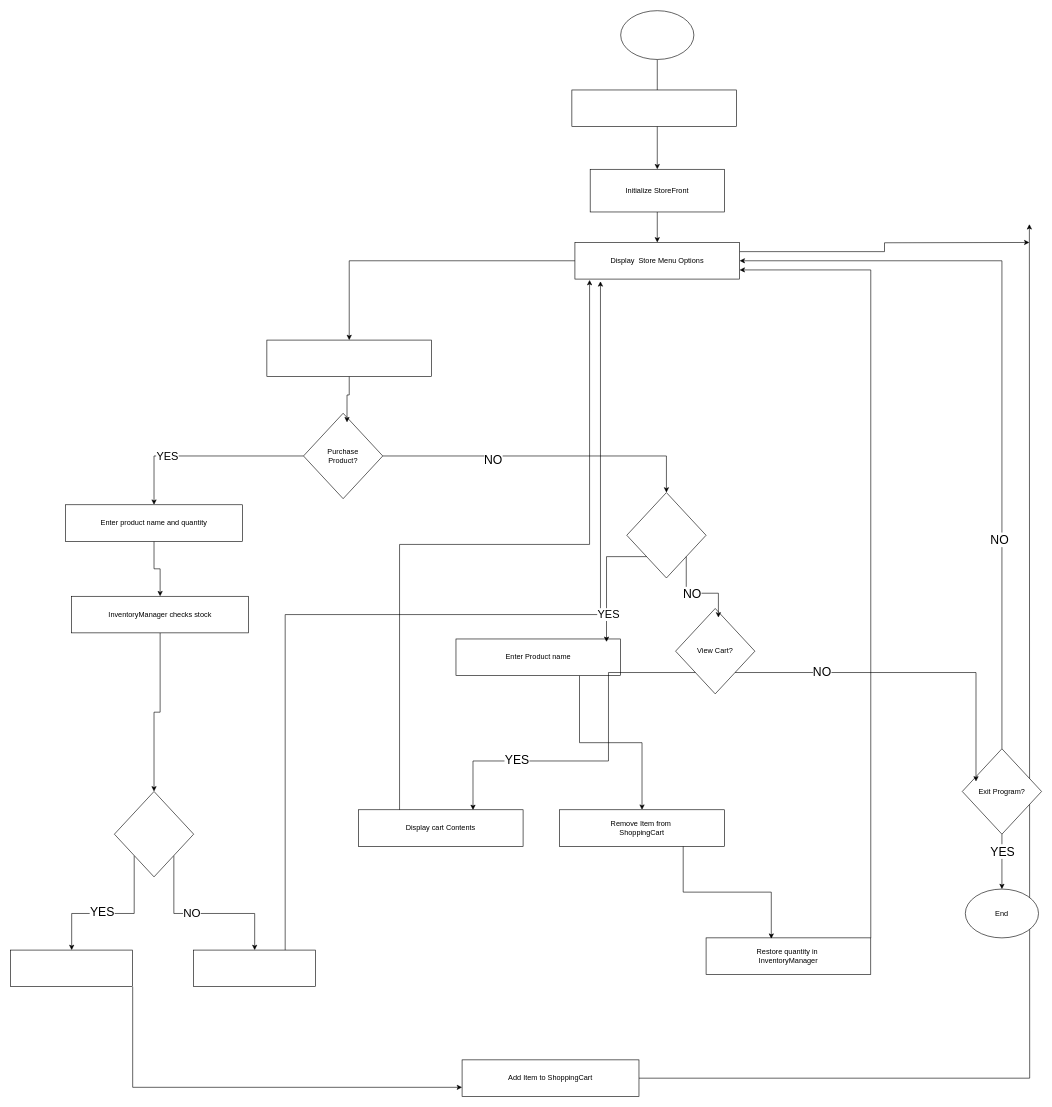
The diagram is 1052 pixels wide and 1107 high, and some of its shapes have lost their labels. Each missing label, with the centre of its shape:
Cancel Purchase?: (x=666, y=535)
Display error message: (x=254, y=968)
Display Store name and Welcome message: (x=654, y=108)
Enough stock?: (x=154, y=834)
Reduce Inventory: (x=71, y=968)
Start: (x=657, y=34)
User selects option: (x=349, y=358)
